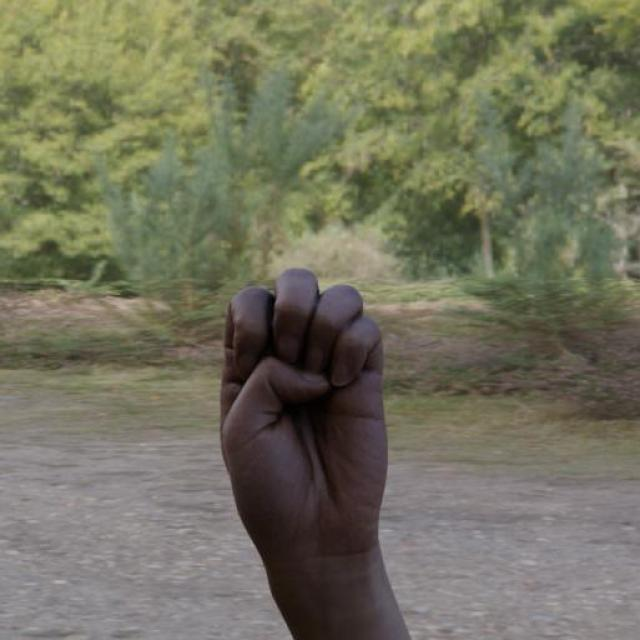E: (215, 265, 395, 555)
